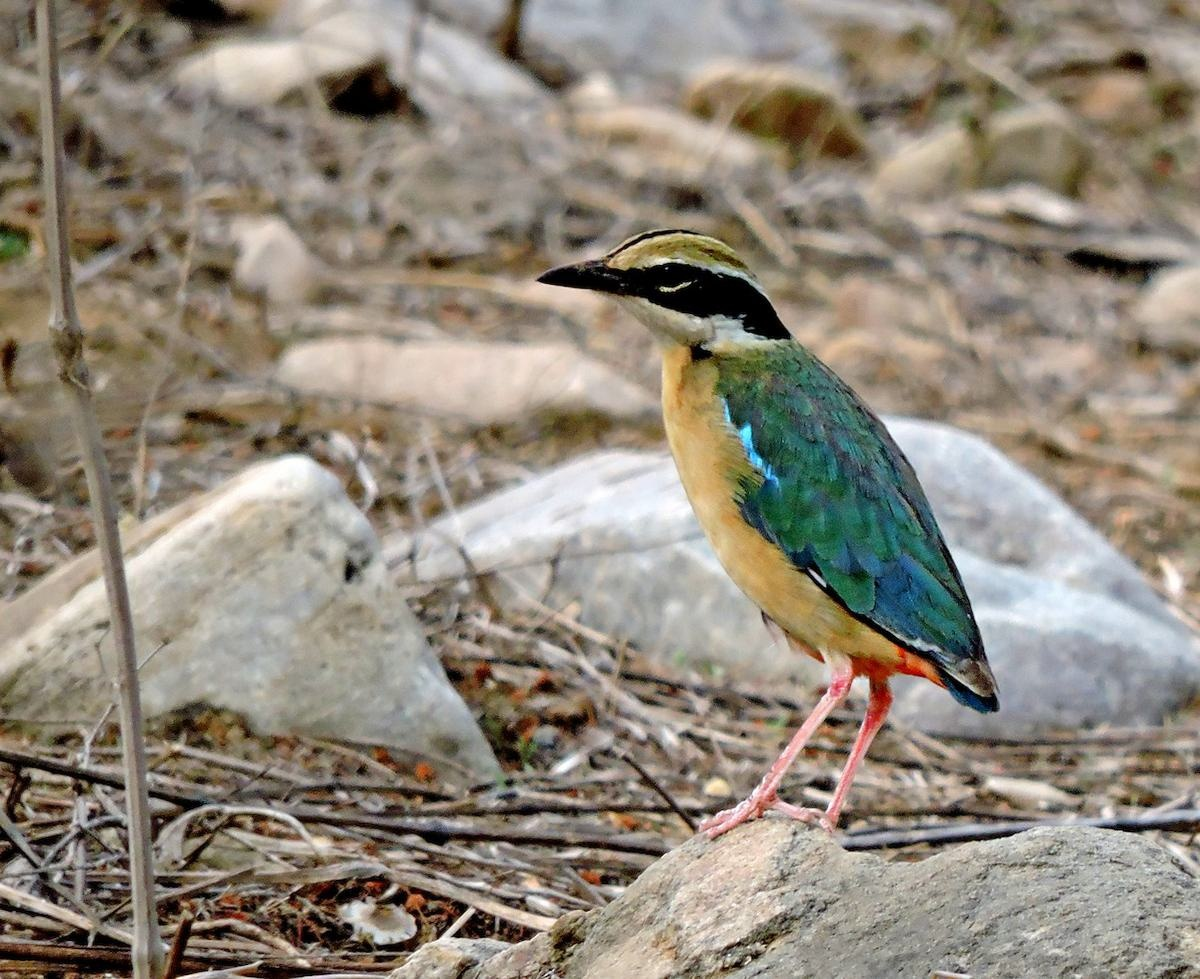pitta: (481, 183, 1029, 857)
